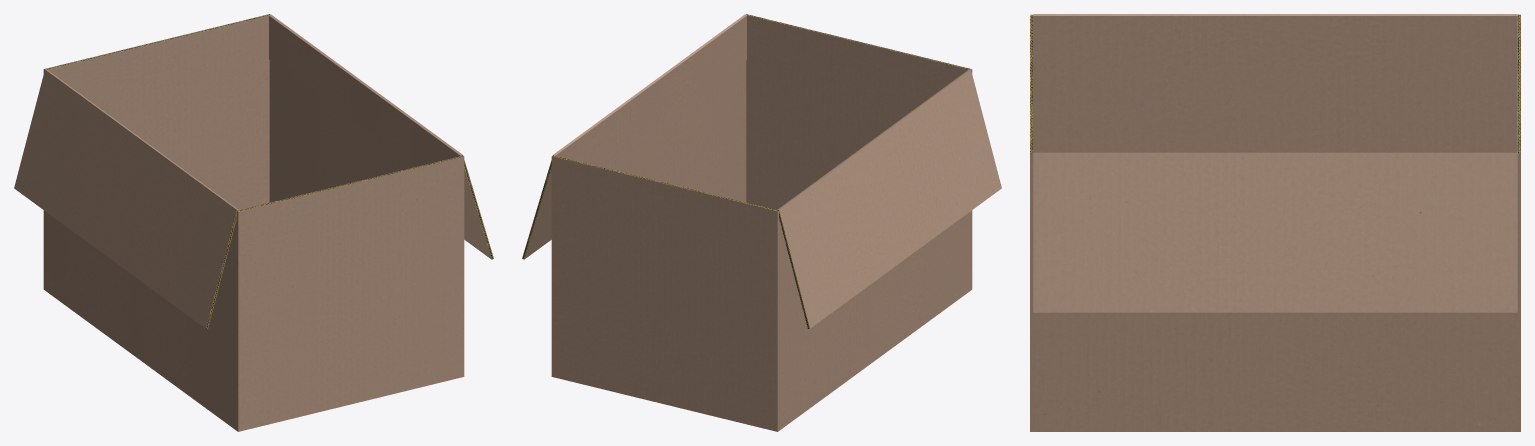
Rendered from Box_Paper.fbx.
3 views of the same model, side by side, from view 1: azimuth 30°, elevation 25°; view 2: azimuth 150°, elevation 25°; view 3: azimuth 270°, elevation 25° (orthographic). The views are drawn at different scales.
Parts seen in each view (by area): view 1: Box_Paper; view 2: Box_Paper; view 3: Box_Paper.
Part boxes in pixels (bbox=[...]): Box_Paper: bbox=[14, 14, 493, 431]; Box_Paper: bbox=[522, 14, 1001, 431]; Box_Paper: bbox=[1030, 14, 1520, 431].
Bounding box in the file's own units: 25.98 × 19.06 × 30.4.
